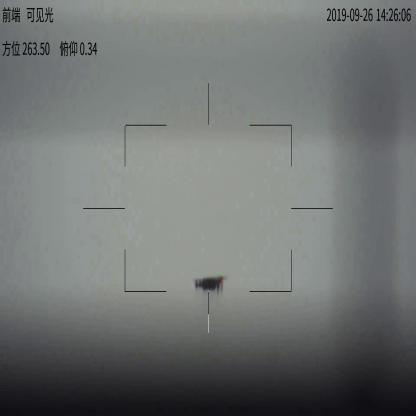uav: (186, 273, 228, 295)
